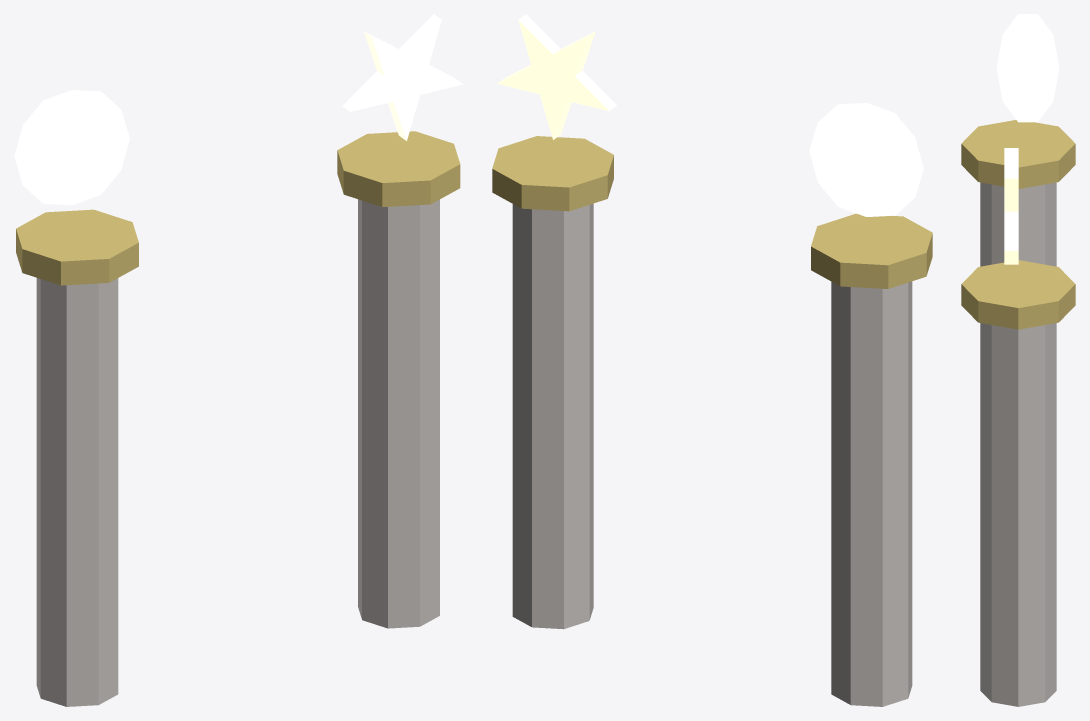
Rendered from Deco_MoonStarPillars.fbx.
3 renders of one model, left to right at view 1: azimuth 30°, elevation 25°; view 2: azimuth 150°, elevation 25°; view 3: azimuth 270°, elevation 25°, orthographic. The views are drawn at different scales.
Parts seen in each view (by area): view 1: Deco_MoonStarPillars, Deco_MoonStarPillars_Moon, Deco_MoonStarPillars_Star; view 2: Deco_MoonStarPillars, Deco_MoonStarPillars_Moon, Deco_MoonStarPillars_Star; view 3: Deco_MoonStarPillars, Deco_MoonStarPillars_Moon, Deco_MoonStarPillars_Star.
Part boxes in pixels (<box>): Deco_MoonStarPillars: <box>16,131,460,706</box>; Deco_MoonStarPillars_Moon: <box>14,90,129,205</box>; Deco_MoonStarPillars_Star: <box>342,14,462,140</box>; Deco_MoonStarPillars: <box>492,136,932,706</box>; Deco_MoonStarPillars_Moon: <box>809,103,923,216</box>; Deco_MoonStarPillars_Star: <box>497,14,616,139</box>; Deco_MoonStarPillars: <box>961,120,1075,706</box>; Deco_MoonStarPillars_Moon: <box>996,14,1059,122</box>; Deco_MoonStarPillars_Star: <box>1004,148,1018,264</box>.
Bounding box in the file's own units: 0.9436 × 1.24 × 0.24.
